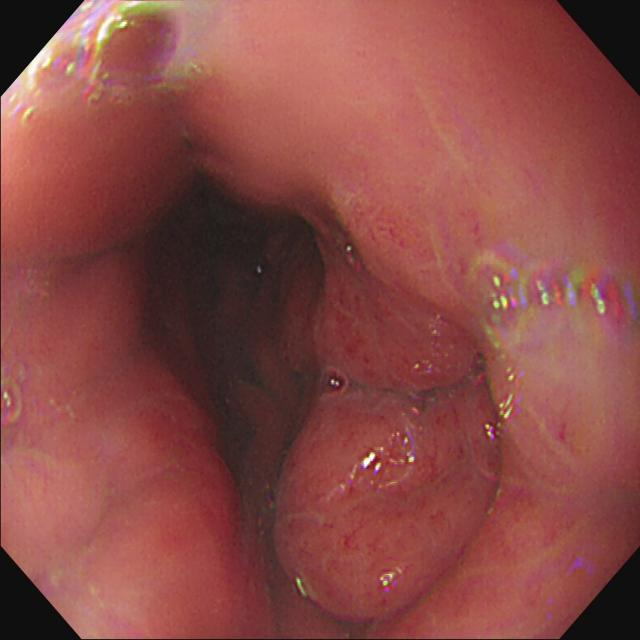A: (276, 385, 501, 618), (311, 189, 476, 380)
E: (194, 191, 286, 278)
T: (98, 2, 179, 85)
U: (2, 2, 188, 125), (469, 253, 640, 346), (487, 349, 524, 441)
